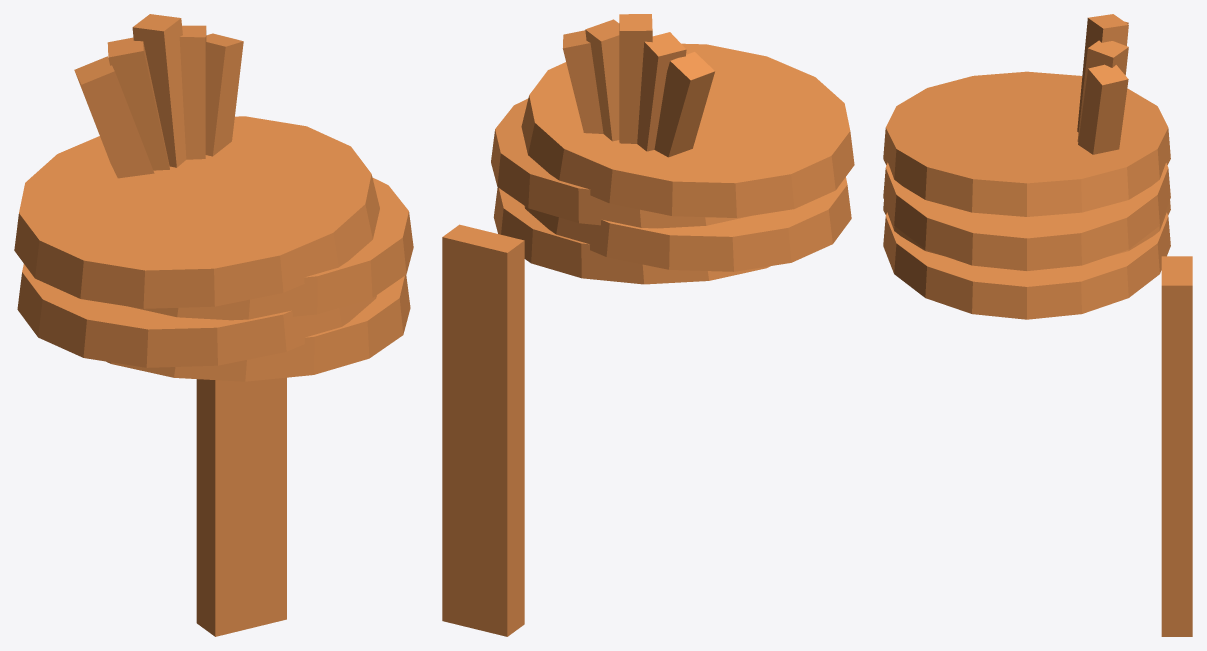
3 renders of one model, left to right at view 1: azimuth 30°, elevation 25°; view 2: azimuth 150°, elevation 25°; view 3: azimuth 270°, elevation 25°, orthographic. The views are drawn at different scales.
Parts seen in each view (by area): view 1: pheta_fold_03, pheta_tail_study, pheta_fold_01, pheta_fold_02, pheta_fold_00, pheta_fan_00, pheta_fan_02, pheta_fan_01, pheta_fan_04, pheta_fan_03; view 2: pheta_fold_03, pheta_tail_study, pheta_fold_01, pheta_fold_02, pheta_fold_00, pheta_fan_00, pheta_fan_02, pheta_fan_01, pheta_fan_03, pheta_fan_04; view 3: pheta_fold_03, pheta_fold_02, pheta_fold_00, pheta_tail_study, pheta_fan_04, pheta_fan_02, pheta_fan_03, pheta_fold_01.
Boxes of the visible parts, <box> form: pheta_fold_03: <box>14,116,379,308</box>; pheta_tail_study: <box>196,377,286,636</box>; pheta_fold_01: <box>17,264,376,367</box>; pheta_fold_02: <box>129,178,413,320</box>; pheta_fold_00: <box>106,275,410,381</box>; pheta_fan_00: <box>74,56,154,178</box>; pheta_fan_02: <box>132,14,186,167</box>; pheta_fan_01: <box>107,37,169,170</box>; pheta_fan_04: <box>205,33,243,156</box>; pheta_fan_03: <box>179,25,206,159</box>; pheta_fold_03: <box>521,43,854,217</box>; pheta_tail_study: <box>442,224,524,636</box>; pheta_fold_01: <box>524,177,851,271</box>; pheta_fold_02: <box>491,98,749,228</box>; pheta_fold_00: <box>493,187,770,284</box>; pheta_fan_00: <box>654,52,714,157</box>; pheta_fan_02: <box>619,14,652,143</box>; pheta_fan_01: <box>637,32,686,151</box>; pheta_fan_03: <box>585,19,619,141</box>; pheta_fan_04: <box>562,30,603,133</box>; pheta_fold_03: <box>883,71,1170,216</box>; pheta_fold_02: <box>883,162,1170,270</box>; pheta_fold_00: <box>883,212,1170,319</box>; pheta_tail_study: <box>1161,256,1192,636</box>; pheta_fan_04: <box>1078,64,1128,154</box>; pheta_fan_02: <box>1077,14,1128,132</box>; pheta_fan_03: <box>1077,40,1128,141</box>; pheta_fold_01: <box>883,200,1170,255</box>.
Bounding box in the file's own units: 0.2755 × 0.4862 × 0.2475.
